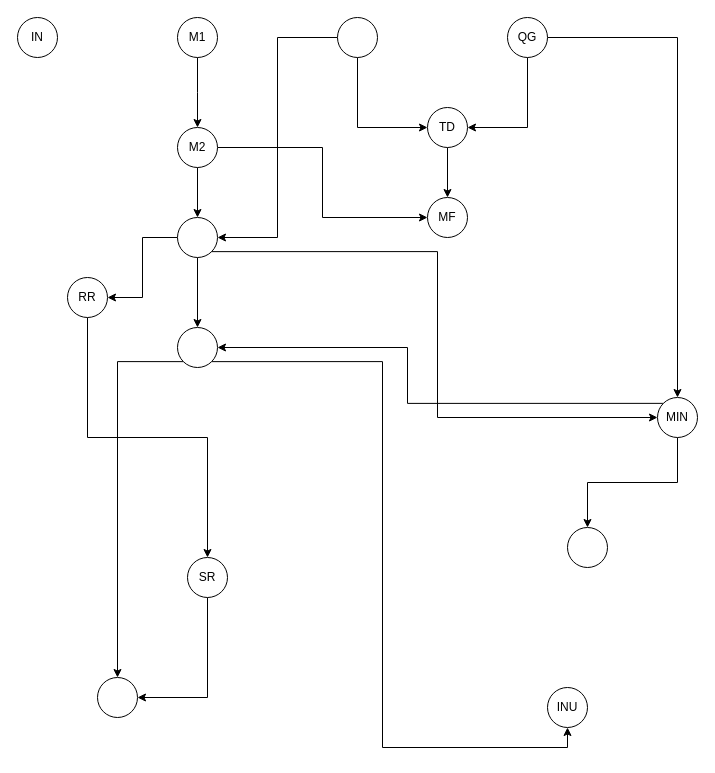
Some shapes in this 715 by 773 pixel diagram are drawn without their labels. Each missing label, with the box of its shape:
CB: (566, 526, 608, 568)
F1: (336, 16, 378, 58)
FN: (176, 216, 218, 258)
PR: (176, 326, 218, 368)
SN: (96, 676, 138, 718)
